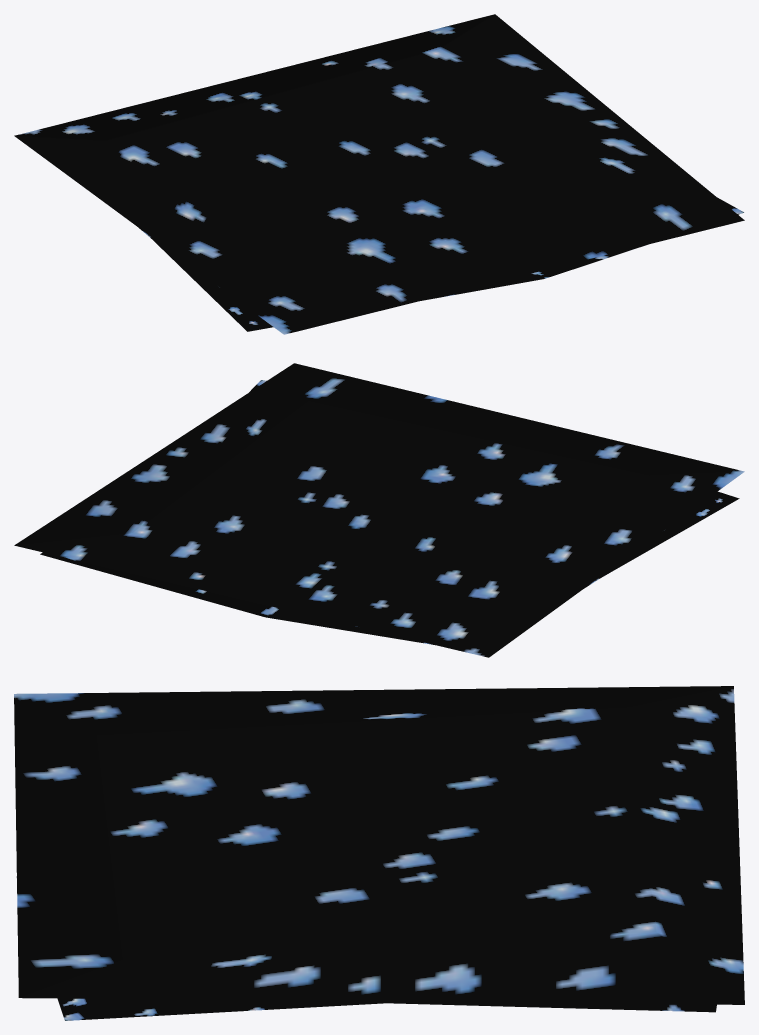
The picture shows the model from 3 angles, top to bottom: view 1: azimuth 30°, elevation 25°; view 2: azimuth 150°, elevation 25°; view 3: azimuth 270°, elevation 25°; orthographic projection. The views are drawn at different scales.
Visible parts, largest first — view 1: 1086; view 2: 1086; view 3: 1086.
Part boxes in pixels (bbox=[...]): 1086: bbox=[14, 14, 744, 334]; 1086: bbox=[14, 363, 744, 657]; 1086: bbox=[14, 686, 744, 1020].
Size of the model in its own units: 1.61 by 0.0736 by 1.52.
1 material, 1 textured.
